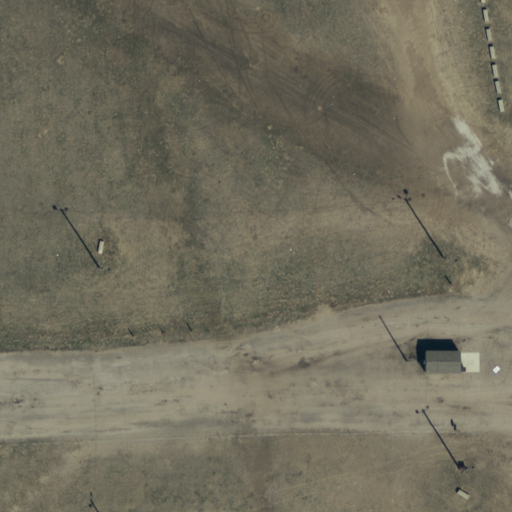DT: (86, 255, 118, 286), (450, 456, 480, 480), (398, 346, 420, 374), (435, 246, 459, 270)
